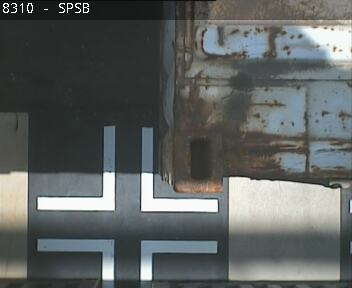groundmarker_1: (36, 127, 216, 211), (38, 237, 216, 288)
